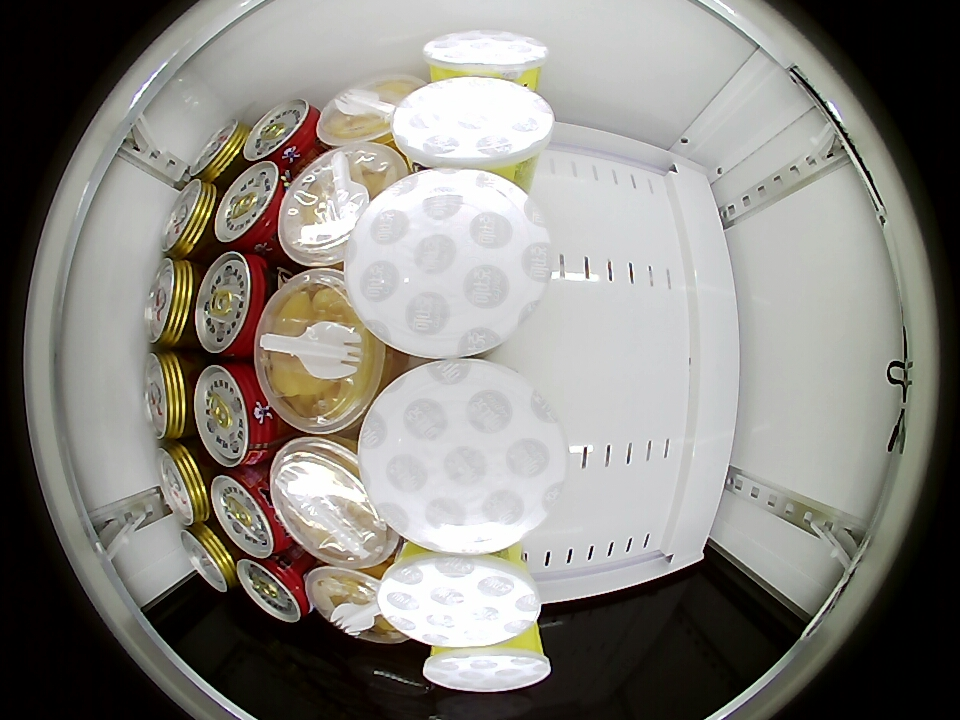hongniu2: (144, 258, 200, 348), (156, 441, 213, 525), (143, 350, 196, 440), (161, 179, 220, 259), (180, 522, 238, 593), (188, 120, 248, 184)
kebike: (358, 358, 569, 555), (348, 168, 554, 359), (377, 550, 540, 650), (391, 76, 556, 173), (422, 636, 552, 692), (422, 30, 549, 85)
wangzainiunai: (195, 360, 280, 468), (195, 251, 276, 358), (210, 464, 290, 559), (215, 161, 290, 255), (237, 548, 312, 624), (244, 98, 320, 171)
xianguolao: (254, 269, 387, 434), (268, 437, 395, 568), (277, 144, 402, 267), (315, 77, 414, 150), (307, 564, 392, 638)
